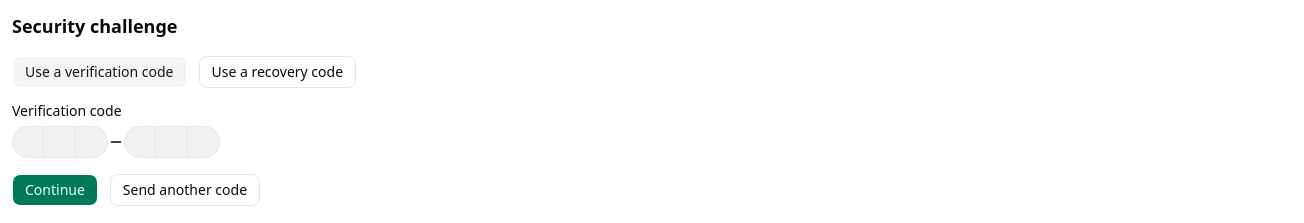
Test: SecurityChallenge › switches methods, focuses the new control, and preserves caller-owned values
expect the element named "Challenge method" is shown: met, box [12, 56, 356, 88]
Click the button "Use a recovery code" at (277, 72), box [198, 56, 356, 88]
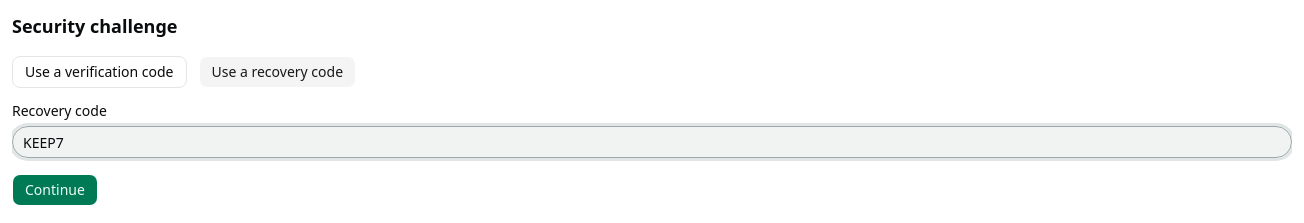
expect the field labelled "Recovery code" holds "KEEP7": met, box [12, 126, 1292, 158]
